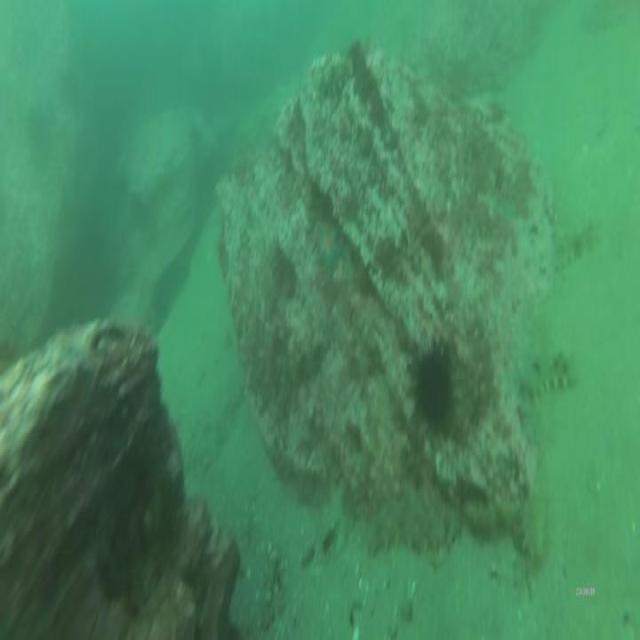echinus: (412, 343, 456, 446)
holothurian: (517, 466, 552, 572), (543, 215, 601, 275), (519, 346, 579, 403)
starfish: (312, 218, 347, 277)
